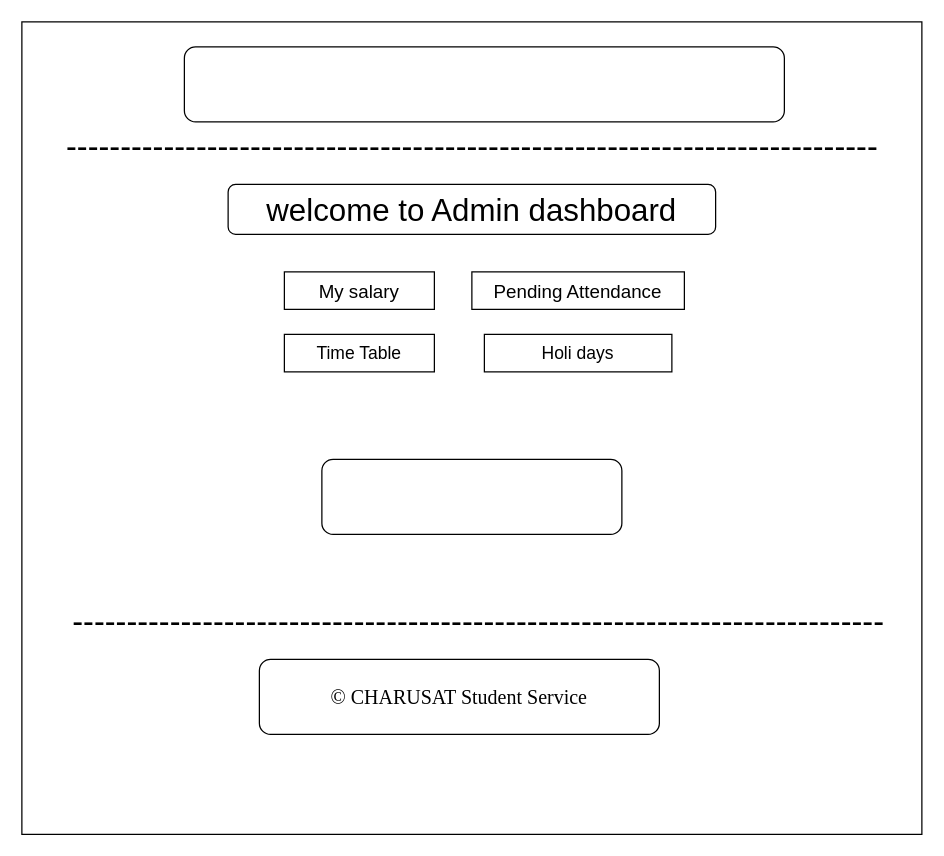
Image size: 944x856. Some labels were removed from this diagram. The box of each missing label's shape, as (x1, y1, x2, y2) in pixels:
Admin Dashboard: (183, 46, 784, 122)
Notification: (321, 458, 622, 534)
